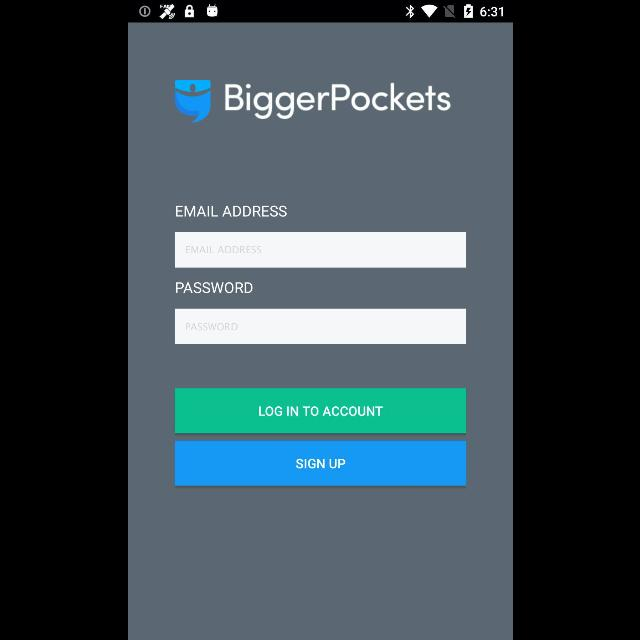image: (173, 80, 210, 124)
input: (174, 309, 466, 345), (174, 232, 466, 268)
text: (224, 82, 450, 120), (174, 206, 286, 217), (175, 282, 252, 294), (186, 246, 260, 254), (185, 323, 237, 331)
textbutton: (174, 440, 466, 486), (174, 388, 466, 434)
uppertaskbar: (128, 1, 512, 23)
